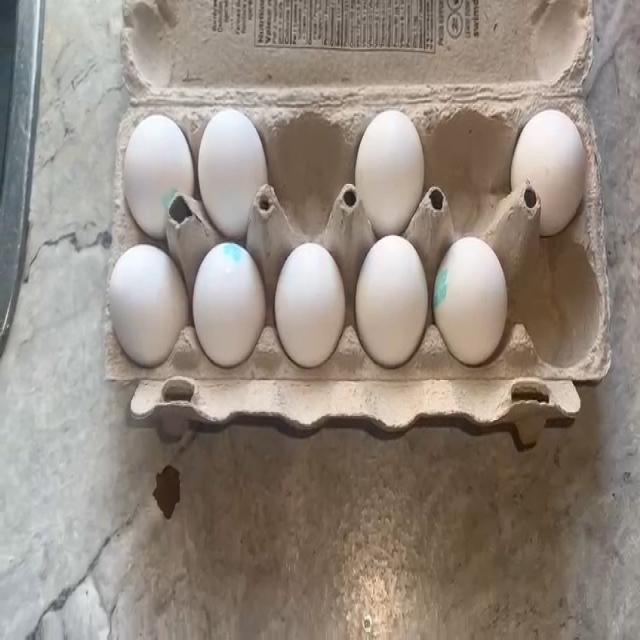Egg: (126, 111, 190, 228), (199, 260, 270, 362), (372, 246, 433, 362), (116, 260, 186, 358), (523, 112, 587, 216), (456, 248, 509, 353), (288, 243, 338, 348), (358, 118, 422, 196)
